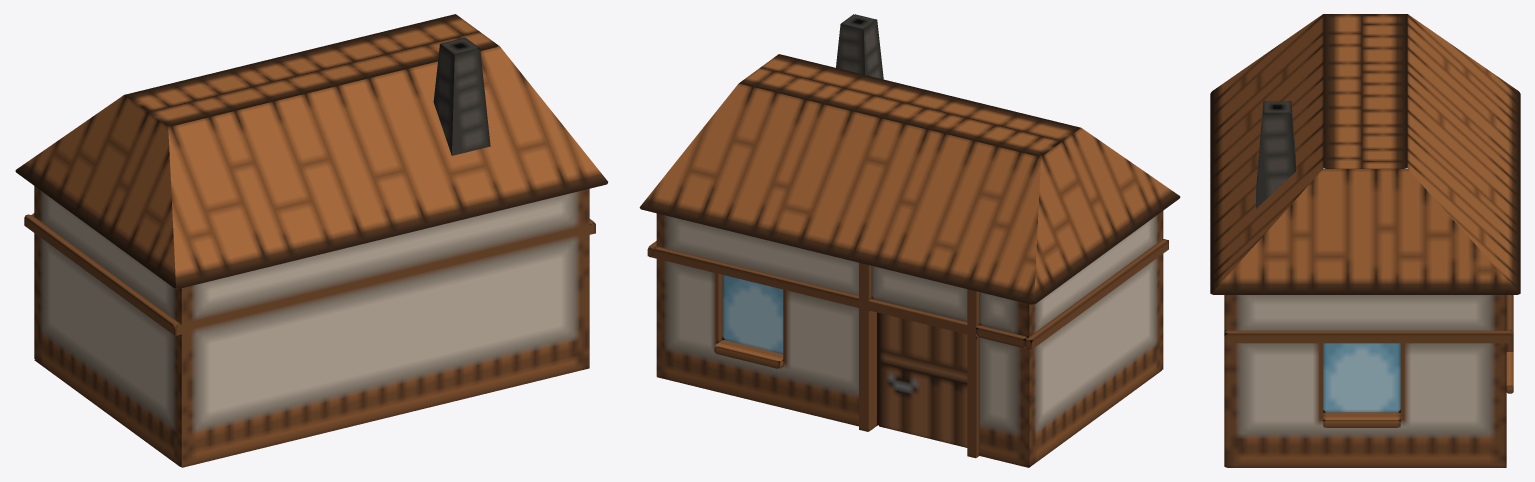
Rendered from house_0.fbx.
3 views of the same model, side by side, from view 1: azimuth 30°, elevation 25°; view 2: azimuth 150°, elevation 25°; view 3: azimuth 270°, elevation 25° (orthographic). The views are drawn at different scales.
Parts seen in each view (by area): view 1: cuboid; view 2: cuboid; view 3: cuboid.
Part boxes in pixels (box(x1,y1,x2,y2)): cuboid: box(15, 14, 607, 467); cuboid: box(639, 14, 1180, 467); cuboid: box(1210, 14, 1520, 467).
Size of the model in its own units: 212 by 153 by 138.
Materials: 1 (1 with a texture image).
